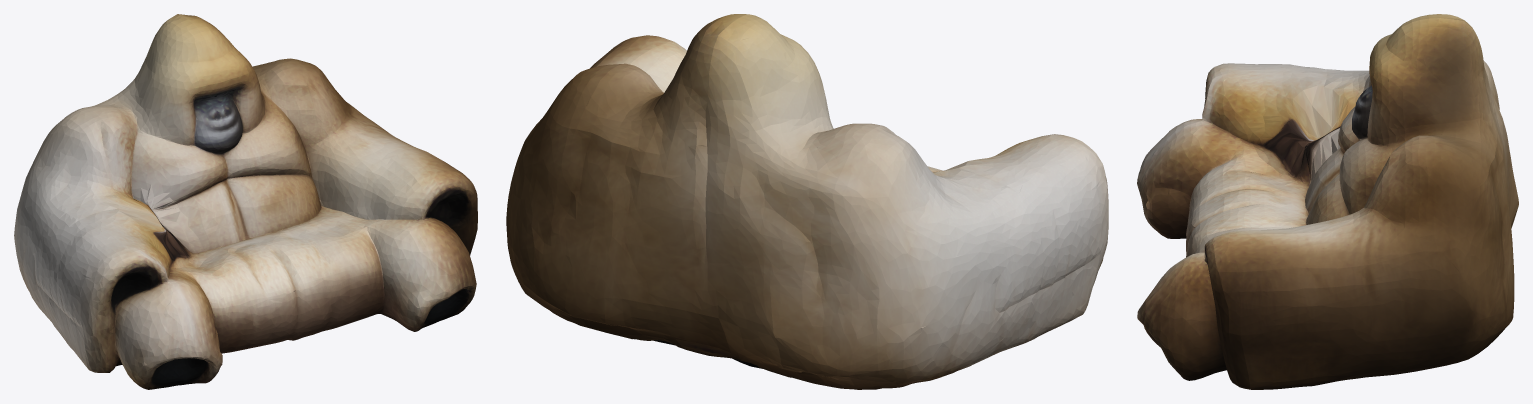
Rendered from gorila2.glb.
The picture shows the model from 3 angles, left to right: view 1: azimuth 30°, elevation 25°; view 2: azimuth 150°, elevation 25°; view 3: azimuth 270°, elevation 25°; orthographic projection. The views are drawn at different scales.
Parts seen in each view (by area): view 1: world; view 2: world; view 3: world.
Part boxes in pixels (<box>): world: <box>14,14,477,389</box>; world: <box>506,14,1108,389</box>; world: <box>1137,14,1518,389</box>.
Size of the model in its own units: 0.9961 by 0.6059 by 0.7539.
Materials: 1 (1 with a texture image).
